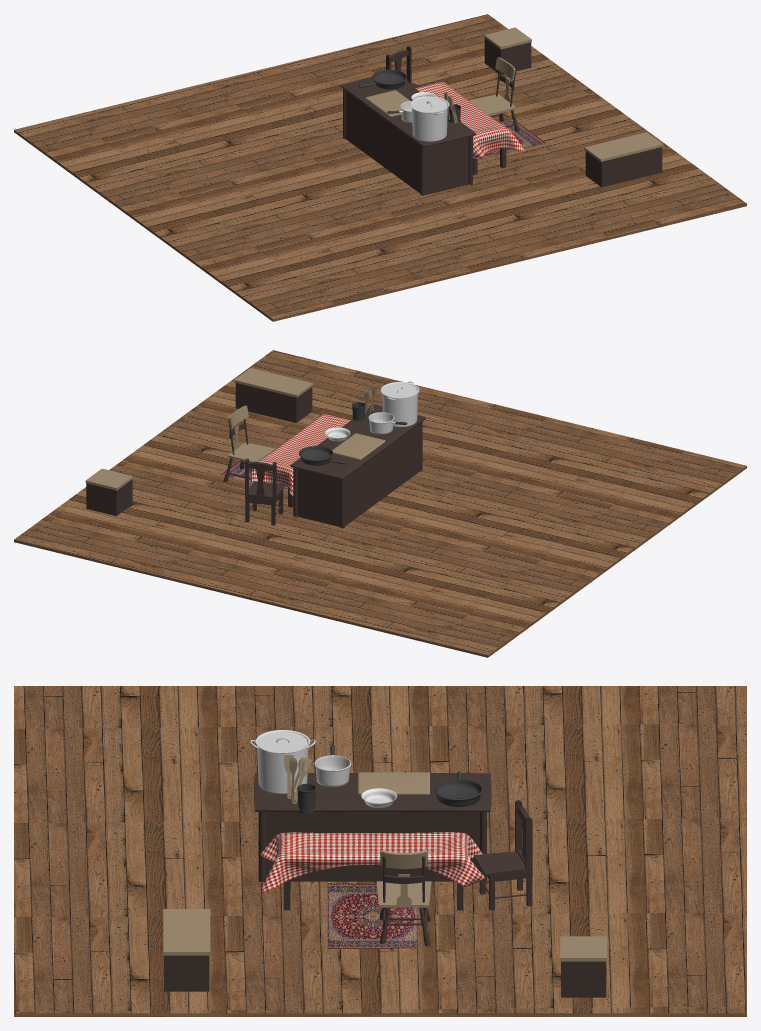
File: kitchen_props.fbx
3 views of the same model, one above another, from view 1: azimuth 30°, elevation 25°; view 2: azimuth 150°, elevation 25°; view 3: azimuth 270°, elevation 25° (orthographic). The views are drawn at different scales.
Visible parts, largest first — view 1: floor1, polySurface1, pCube20 (×2), pPlane1, polySurface2, pCube21 (×2), polySurface5, pPlane2, board, pCube9, pCylinder8; view 2: floor1, polySurface1, pCube20 (×2), pPlane1, polySurface2, pCube21 (×2), polySurface5, board, pCube9, pCylinder8, pCylinder5; view 3: floor1, pPlane1, polySurface1, pPlane2, polySurface2, pCube21 (×2), pCube20 (×2), pCube9 (×2), board, polySurface5, pCylinder8, pCylinder5 (+3 smaller).
Boxes of the visible parts, <box> form: floor1: <box>14,14,746,321</box>; polySurface1: <box>346,91,468,195</box>; pCube20 (×2): <box>484,38,662,187</box>; pPlane1: <box>415,82,524,158</box>; polySurface2: <box>340,77,475,147</box>; pCube21 (×2): <box>484,27,663,161</box>; polySurface5: <box>412,107,447,141</box>; pPlane2: <box>477,119,545,159</box>; board: <box>365,90,409,116</box>; pCube9: <box>469,94,516,116</box>; pCylinder8: <box>372,69,406,89</box>; floor1: <box>14,350,746,657</box>; polySurface1: <box>297,424,419,526</box>; pCube20 (×2): <box>86,383,312,515</box>; pPlane1: <box>249,414,350,495</box>; polySurface2: <box>290,404,425,479</box>; pCube21 (×2): <box>85,368,313,490</box>; polySurface5: <box>382,391,417,426</box>; board: <box>332,433,385,460</box>; pCube9: <box>228,442,275,462</box>; pCylinder8: <box>299,446,333,465</box>; pCylinder5: <box>368,412,394,434</box>; floor1: <box>14,686,746,1016</box>; pPlane1: <box>260,832,484,892</box>; polySurface1: <box>265,812,479,881</box>; pPlane2: <box>327,882,417,948</box>; polySurface2: <box>254,773,491,812</box>; pCube21 (×2): <box>163,909,606,961</box>; pCube20 (×2): <box>164,955,606,997</box>; pCube9 (×2): <box>376,851,527,907</box>; board: <box>358,772,429,794</box>; polySurface5: <box>257,743,308,793</box>; pCylinder8: <box>434,779,482,806</box>; pCylinder5: <box>314,755,351,786</box>.
Bounding box in the file's own units: 29.17 × 5.24 × 27.61.
